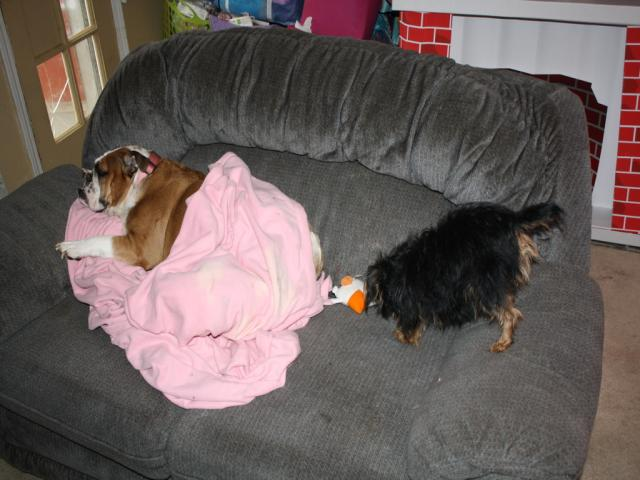Dog: (55, 145, 324, 284), (363, 202, 569, 354)
